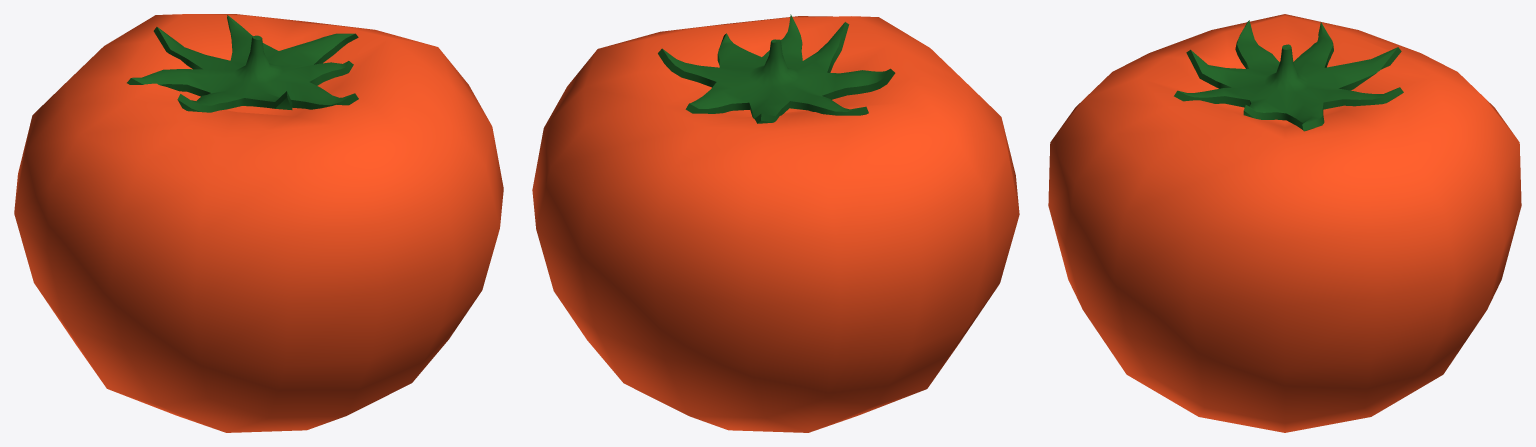
The model's file is tomato.fbx.
3 renders of one model, left to right at view 1: azimuth 30°, elevation 25°; view 2: azimuth 150°, elevation 25°; view 3: azimuth 270°, elevation 25°, orthographic. The views are drawn at different scales.
Parts seen in each view (by area): view 1: Tomato; view 2: Tomato; view 3: Tomato.
Part boxes in pixels (left/top/right/bottom): Tomato: left=14, top=14, right=503, bottom=432; Tomato: left=532, top=14, right=1019, bottom=432; Tomato: left=1048, top=14, right=1521, bottom=432.
Bounding box in the file's own units: 147 × 124 × 147.
